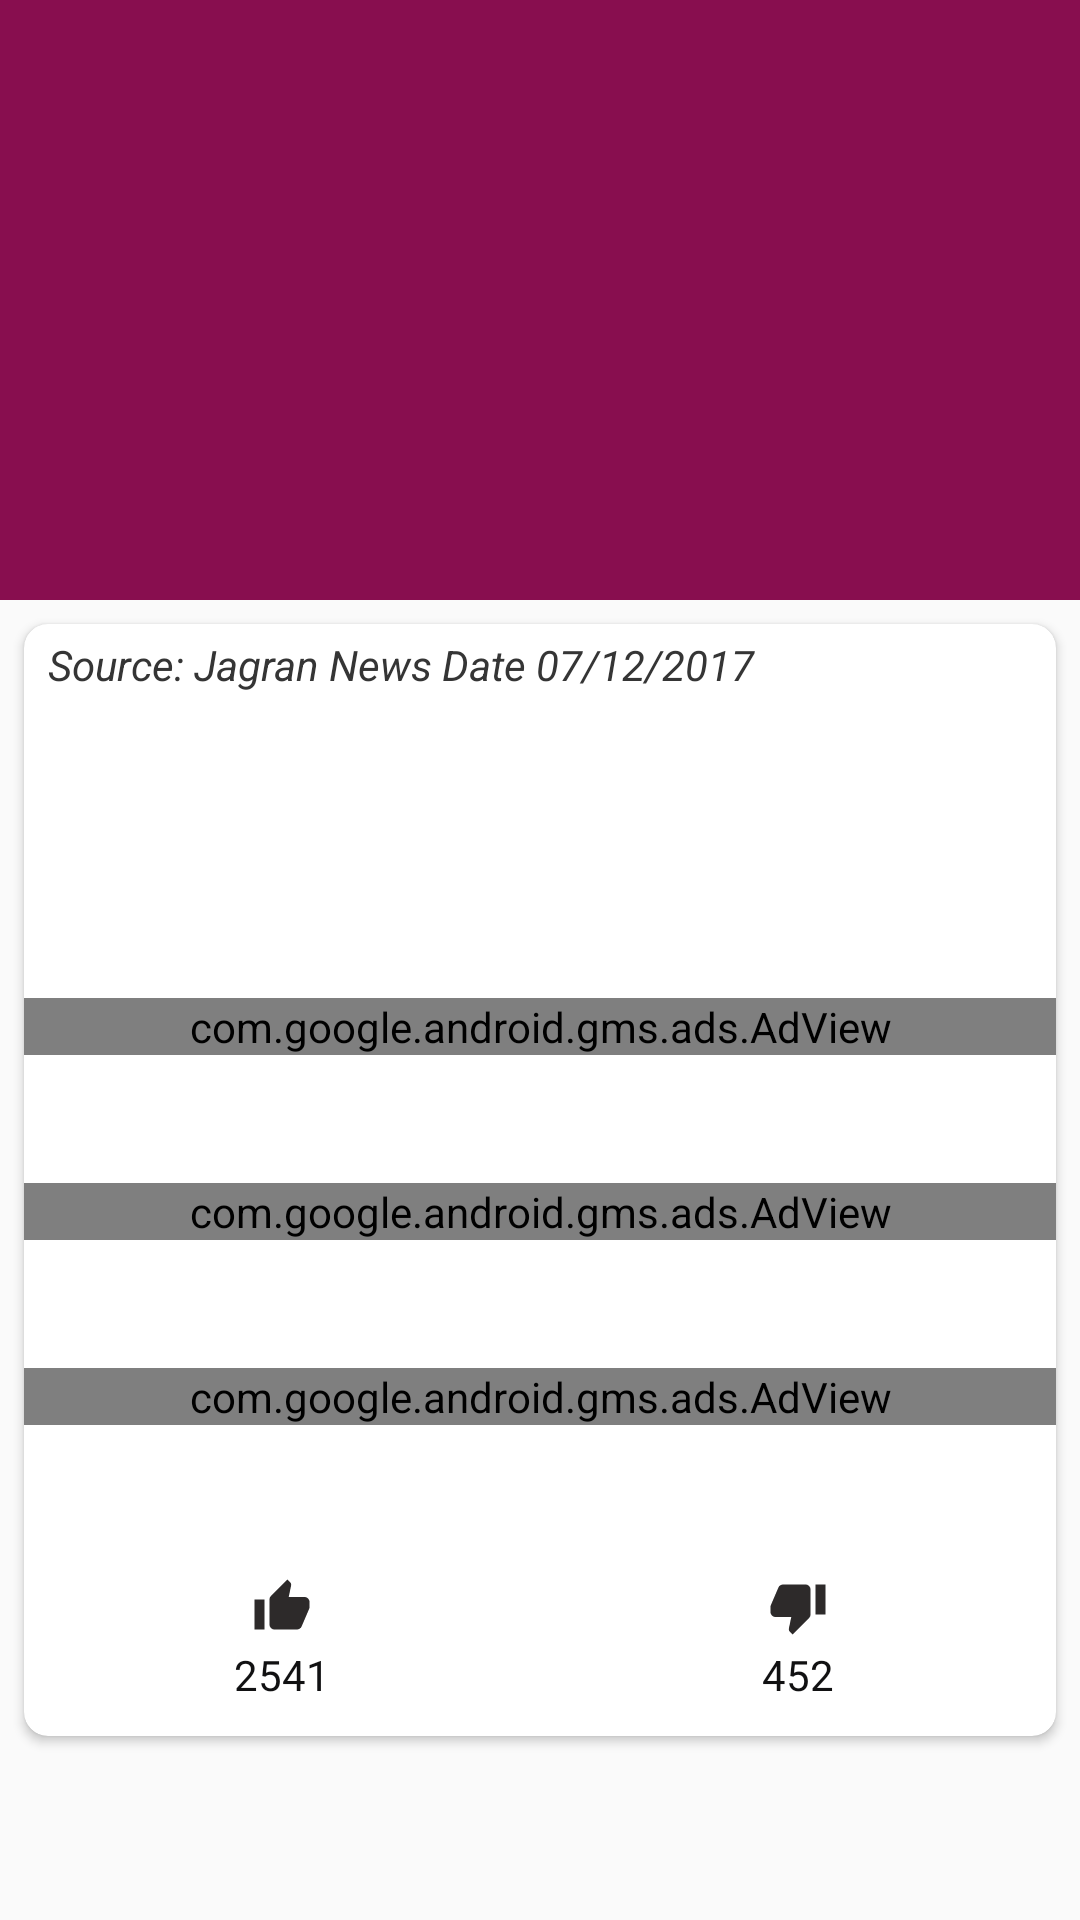

Icons on this 1080px×1920px Android screen, each with the point to tap as (x=x, y=y):
thumb down: (x=798, y=1609)
thumb up: (x=282, y=1604)
